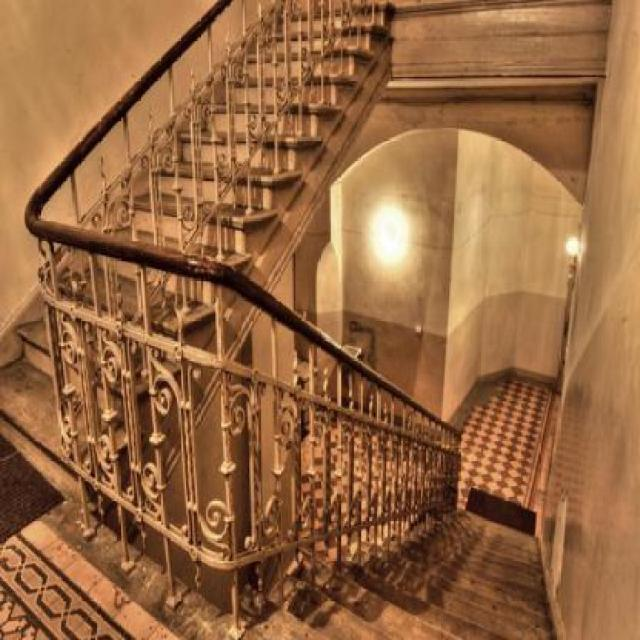stair: (2, 4, 392, 518), (256, 436, 601, 638)
